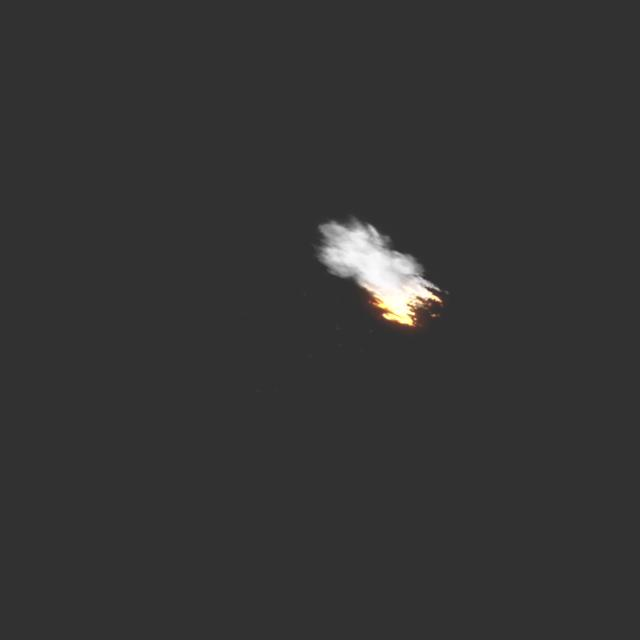fire: (374, 274, 444, 334)
smoke: (300, 204, 460, 312)
